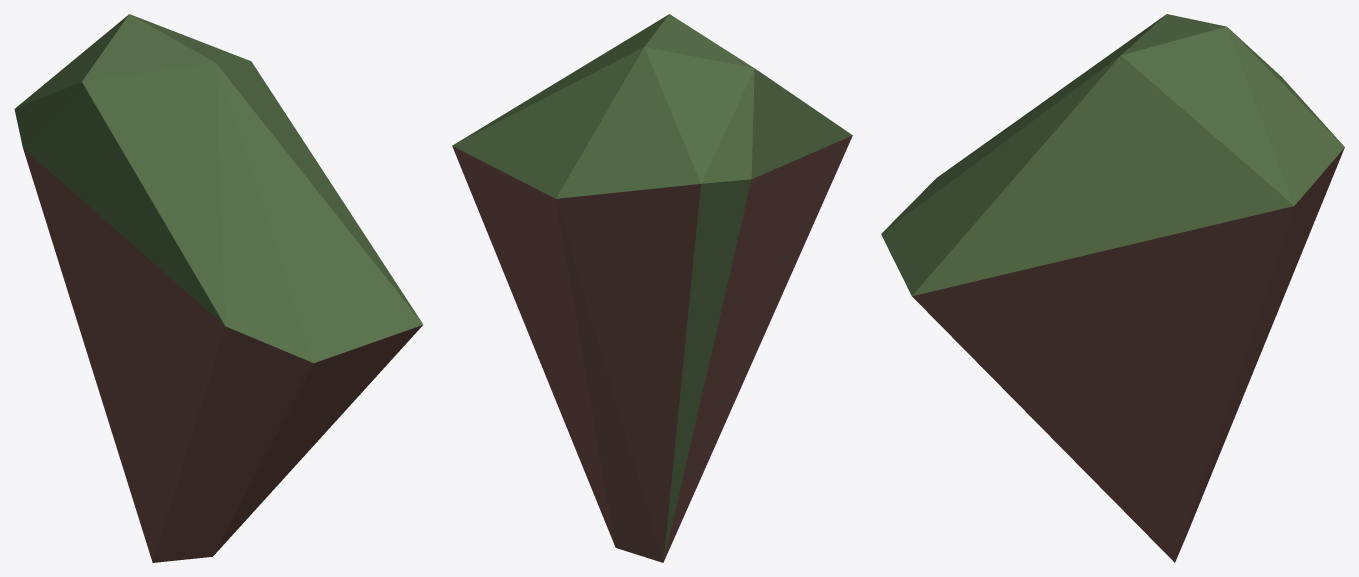
The model's file is CommonTree_2.lod4.glb.
The picture shows the model from 3 angles, left to right: view 1: azimuth 30°, elevation 25°; view 2: azimuth 150°, elevation 25°; view 3: azimuth 270°, elevation 25°; orthographic projection. The views are drawn at different scales.
Visible parts, largest first — view 1: CommonTree_2; view 2: CommonTree_2; view 3: CommonTree_2.
Part boxes in pixels (x1,y1,x2,y2): CommonTree_2: [14, 14, 423, 562]; CommonTree_2: [452, 14, 852, 562]; CommonTree_2: [881, 14, 1344, 562].
Bounding box in the file's own units: 1.63 × 3.16 × 2.6.
